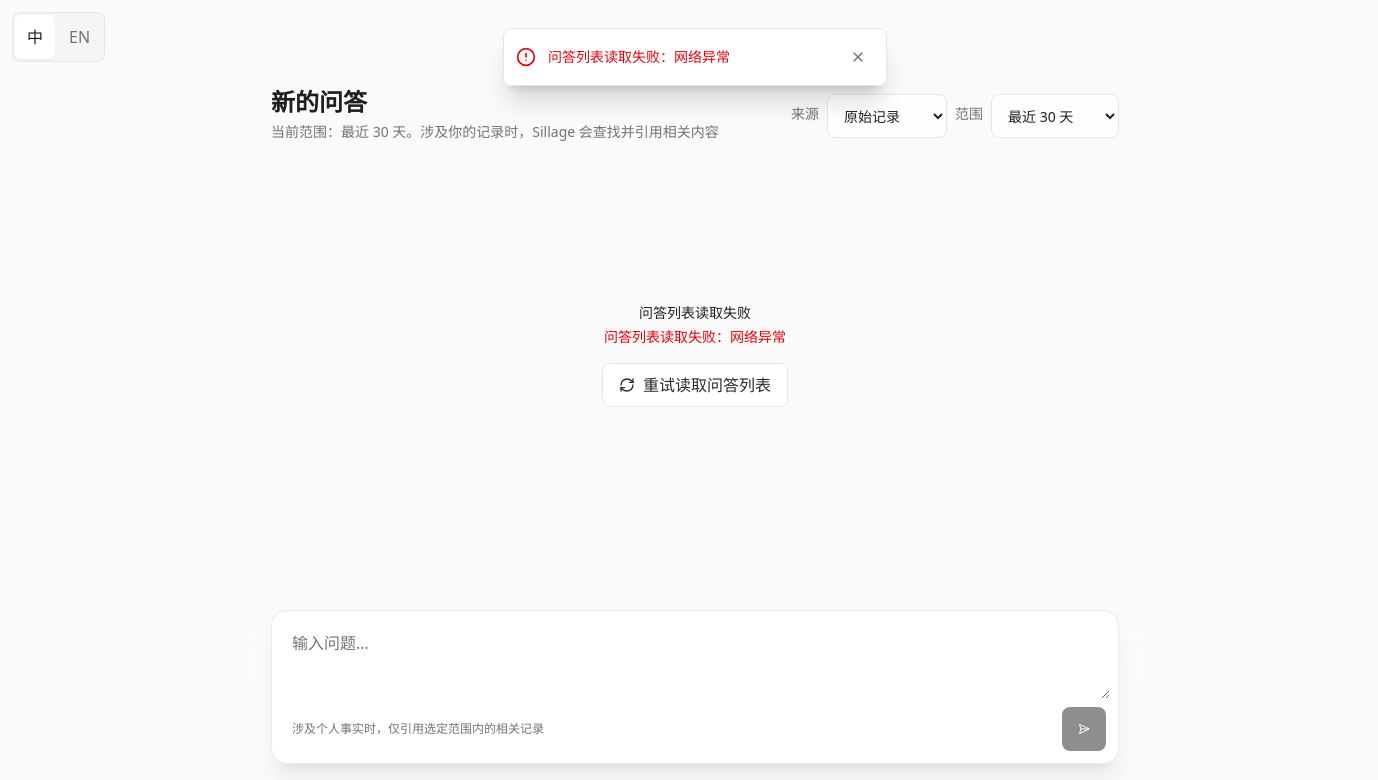
AskPage › keeps an initial conversation-list error visible and retries it
The width and height of the screenshot is (1378, 780).
Expected: the text "问答列表读取失败：网络异常" is shown 2 times, [604, 327, 786, 347]; [548, 47, 730, 66]
Expected: the element "问答列表读取失败" shows "问答列表读取失败：网络异常", [604, 327, 786, 346]
Click the button "重试读取问答列表".
click(695, 385)  # box [602, 363, 788, 407]
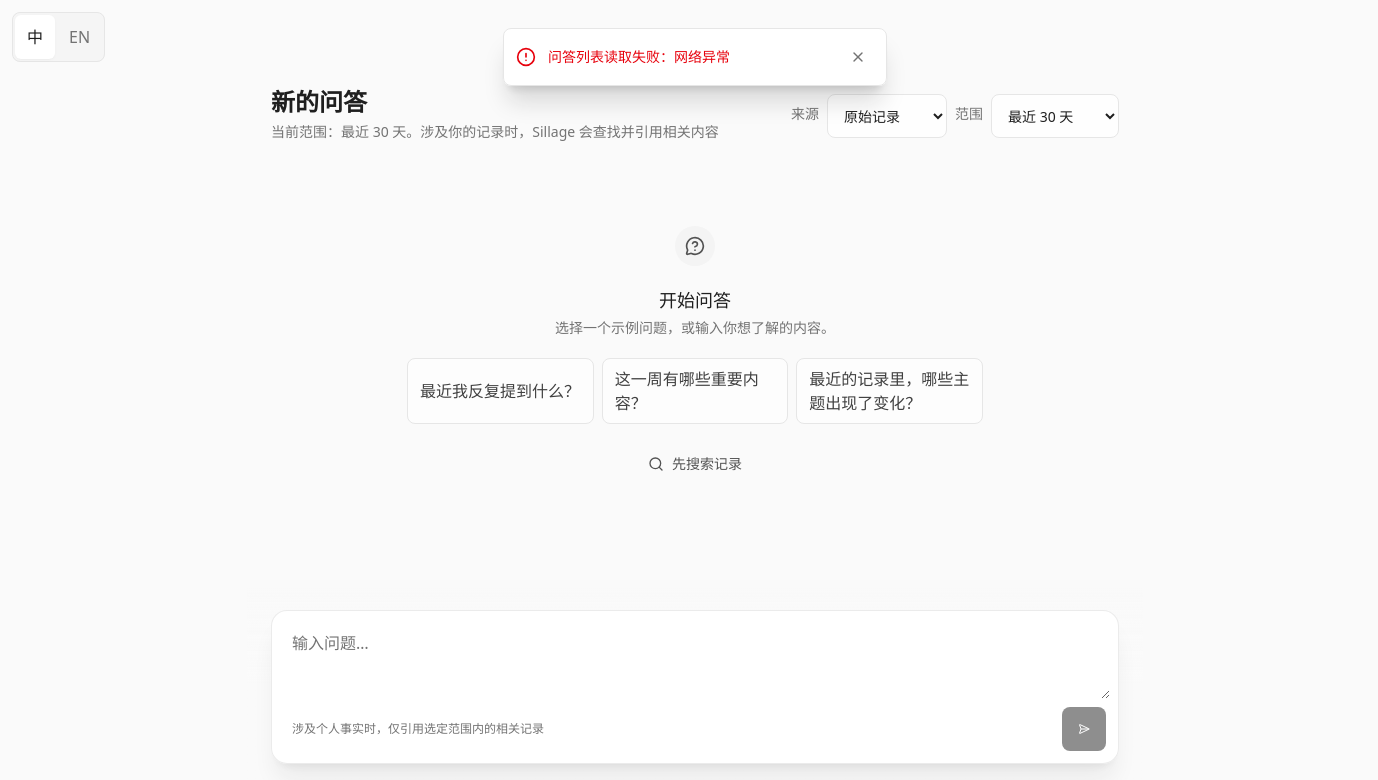
Expected: the text "开始问答" is shown, [659, 288, 731, 312]
